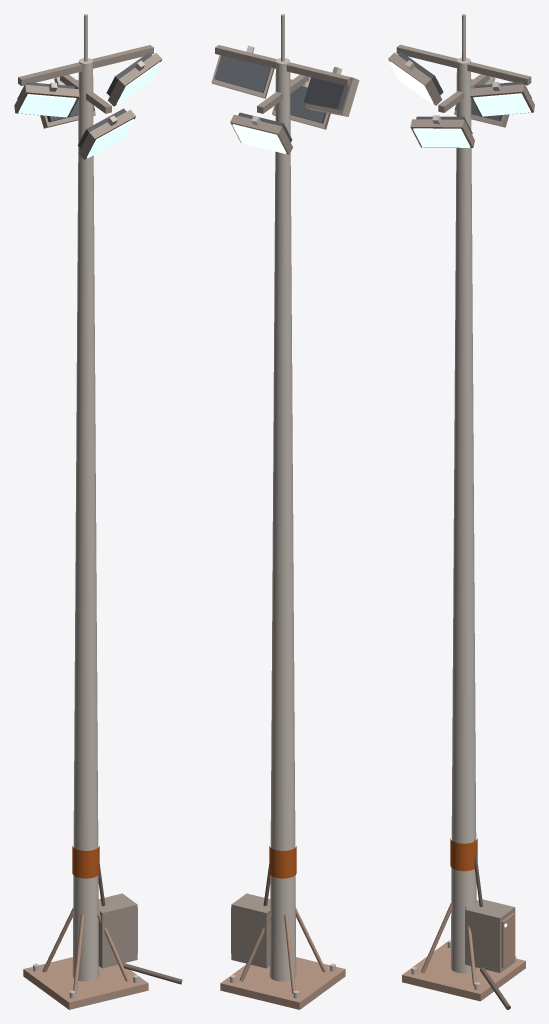
File: D07_floodlight_mast_10m.glb
3 views of the same model, side by side, from view 1: azimuth 30°, elevation 25°; view 2: azimuth 150°, elevation 25°; view 3: azimuth 330°, elevation 25° (orthographic).
Visible parts, largest first — view 1: anchor_bolt, cable_box, base_plate, object 5, marker_band; view 2: anchor_bolt, cable_box, base_plate, marker_band, object 5; view 3: anchor_bolt, cable_box, base_plate, object 5, marker_band.
Part boxes in pixels (<box>): anchor_bolt: <box>33,14,145,998</box>; cable_box: <box>14,45,162,968</box>; base_plate: <box>23,907,148,1009</box>; object 5: <box>18,62,160,158</box>; marker_band: <box>72,846,182,984</box>; anchor_bolt: <box>230,14,342,998</box>; cable_box: <box>211,45,359,968</box>; base_plate: <box>220,907,345,1009</box>; marker_band: <box>263,846,296,906</box>; object 5: <box>232,124,286,153</box>; anchor_bolt: <box>405,14,516,989</box>; cable_box: <box>388,44,534,972</box>; base_plate: <box>402,900,525,1001</box>; object 5: <box>389,61,530,927</box>; marker_band: <box>450,838,510,1009</box>.
Size of the model in its own units: 1.59 by 10.5 by 1.19.
